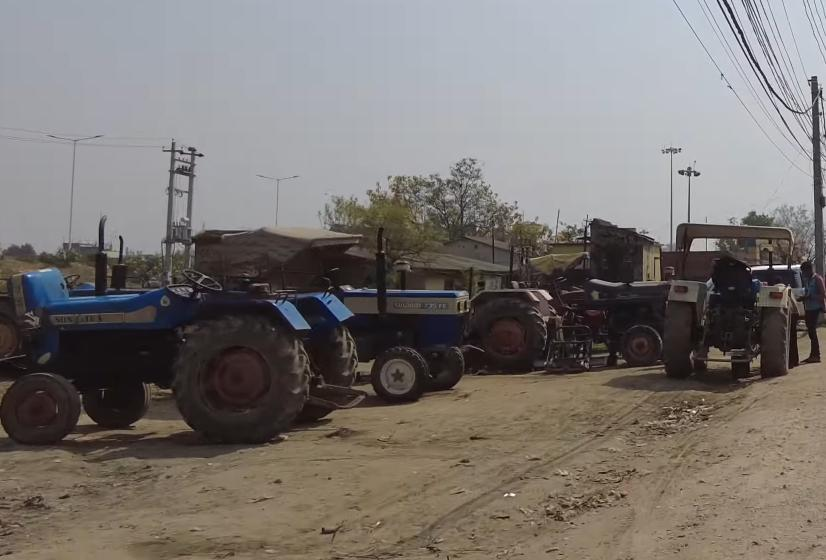tractor: (0, 205, 358, 450), (306, 245, 480, 404), (659, 211, 815, 388), (537, 226, 678, 385)
